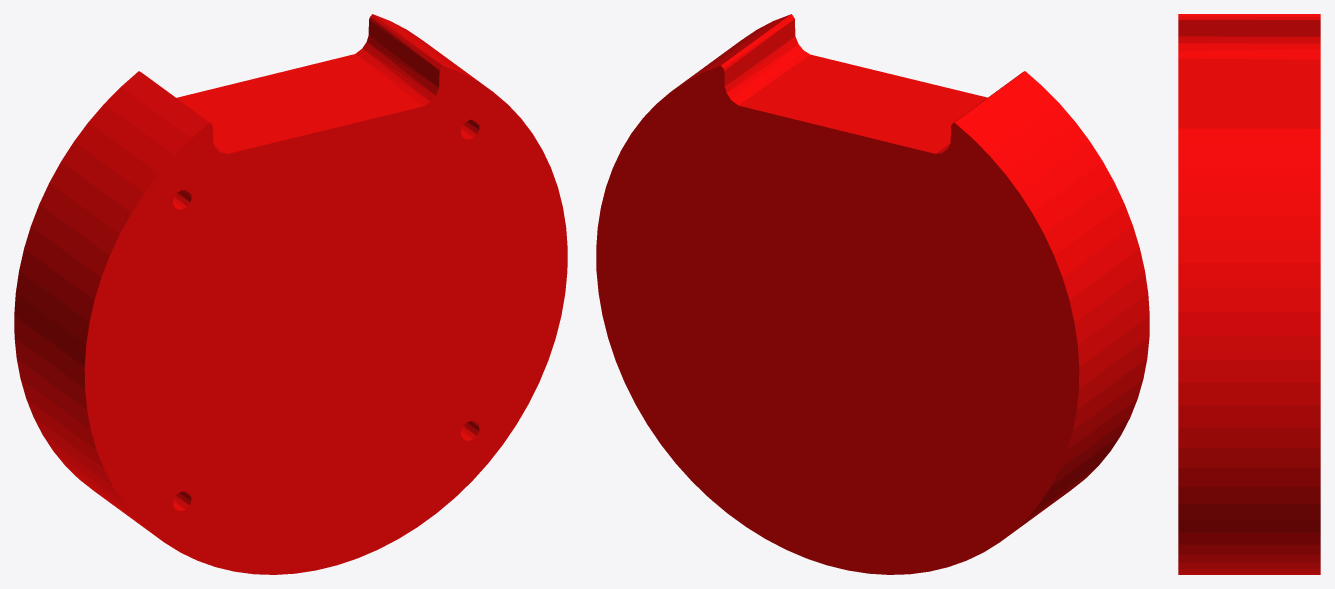
File: head_1_x4_1_pcb_1.glb
3 views of the same model, side by side, from view 1: azimuth 30°, elevation 25°; view 2: azimuth 150°, elevation 25°; view 3: azimuth 270°, elevation 25° (orthographic).
Visible parts, largest first — view 1: head_1_x4_1_pcb_1.obj; view 2: head_1_x4_1_pcb_1.obj; view 3: head_1_x4_1_pcb_1.obj.
Boxes of the visible parts, <box> form: head_1_x4_1_pcb_1.obj: <box>14,14,567,574</box>; head_1_x4_1_pcb_1.obj: <box>596,14,1149,574</box>; head_1_x4_1_pcb_1.obj: <box>1178,14,1320,574</box>.
Bounding box in the file's own units: 0.0534 × 0.05 × 0.0135.
